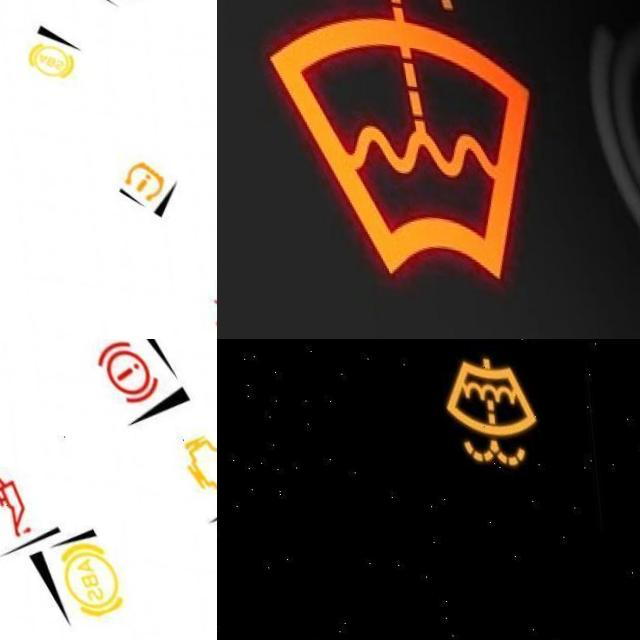Washer Fluid: (255, 0, 540, 281), (435, 343, 537, 461)
